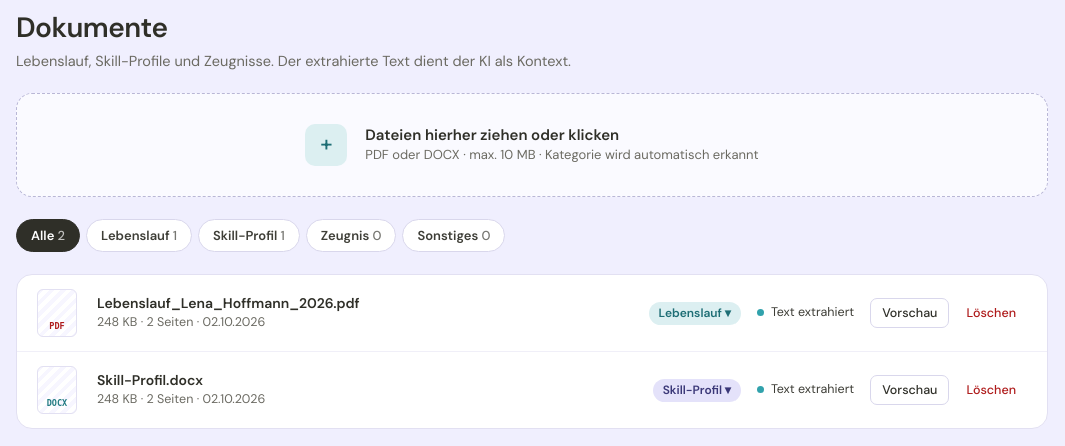
DocumentsComponent › filters by category
Click the button with class "filter" showing "Skill-Profil 1".
click(249, 235)  # box x1=198 y1=219 x2=300 y2=252
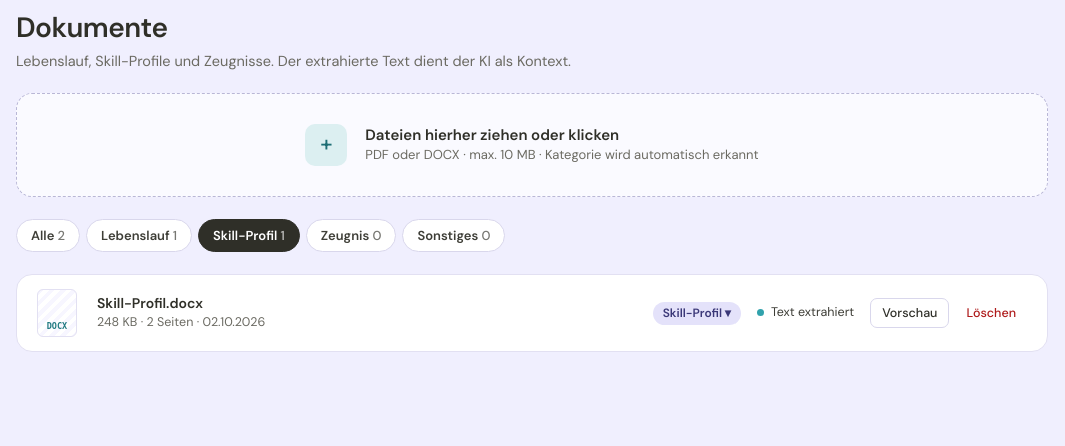
Click the button with class "filter" showing "Sonstiges 0".
click(454, 235)  # box x1=402 y1=219 x2=506 y2=252
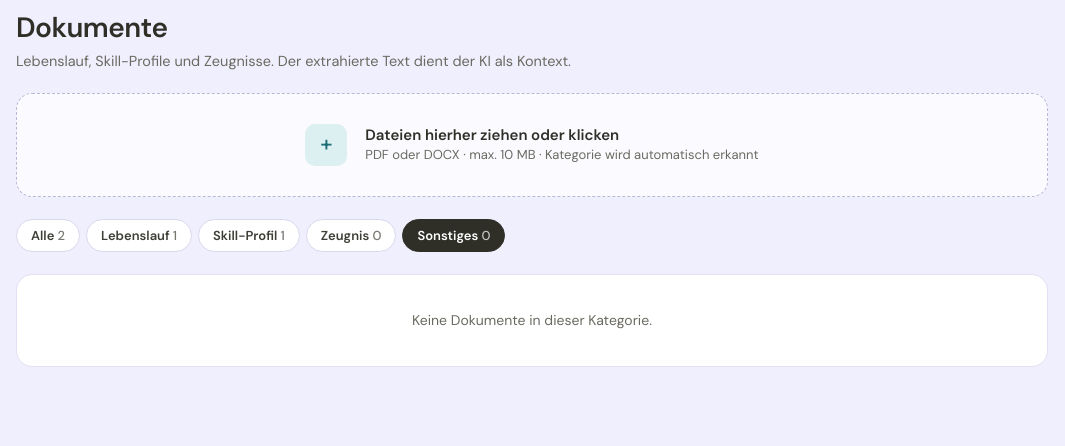
Expected: the text with class "empty" reads "Keine Dokumente in dieser Kategorie.", x1=412 y1=311 x2=652 y2=329
